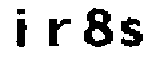8: (83, 6, 115, 52)
i: (12, 8, 33, 51)
r: (45, 17, 73, 52)
s: (119, 16, 143, 50)
